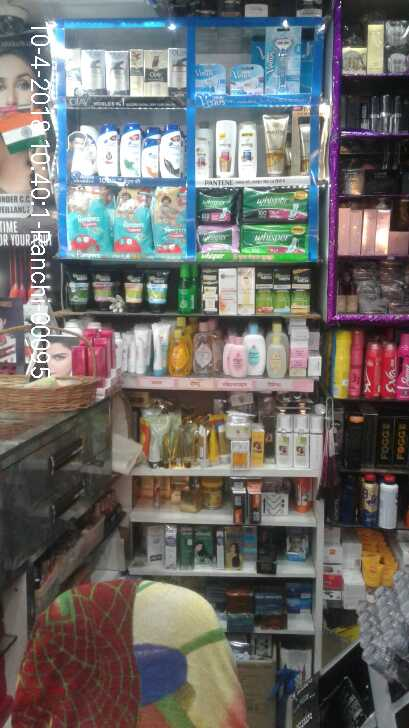venus: (265, 26, 301, 94), (230, 64, 264, 97), (196, 63, 227, 95)
